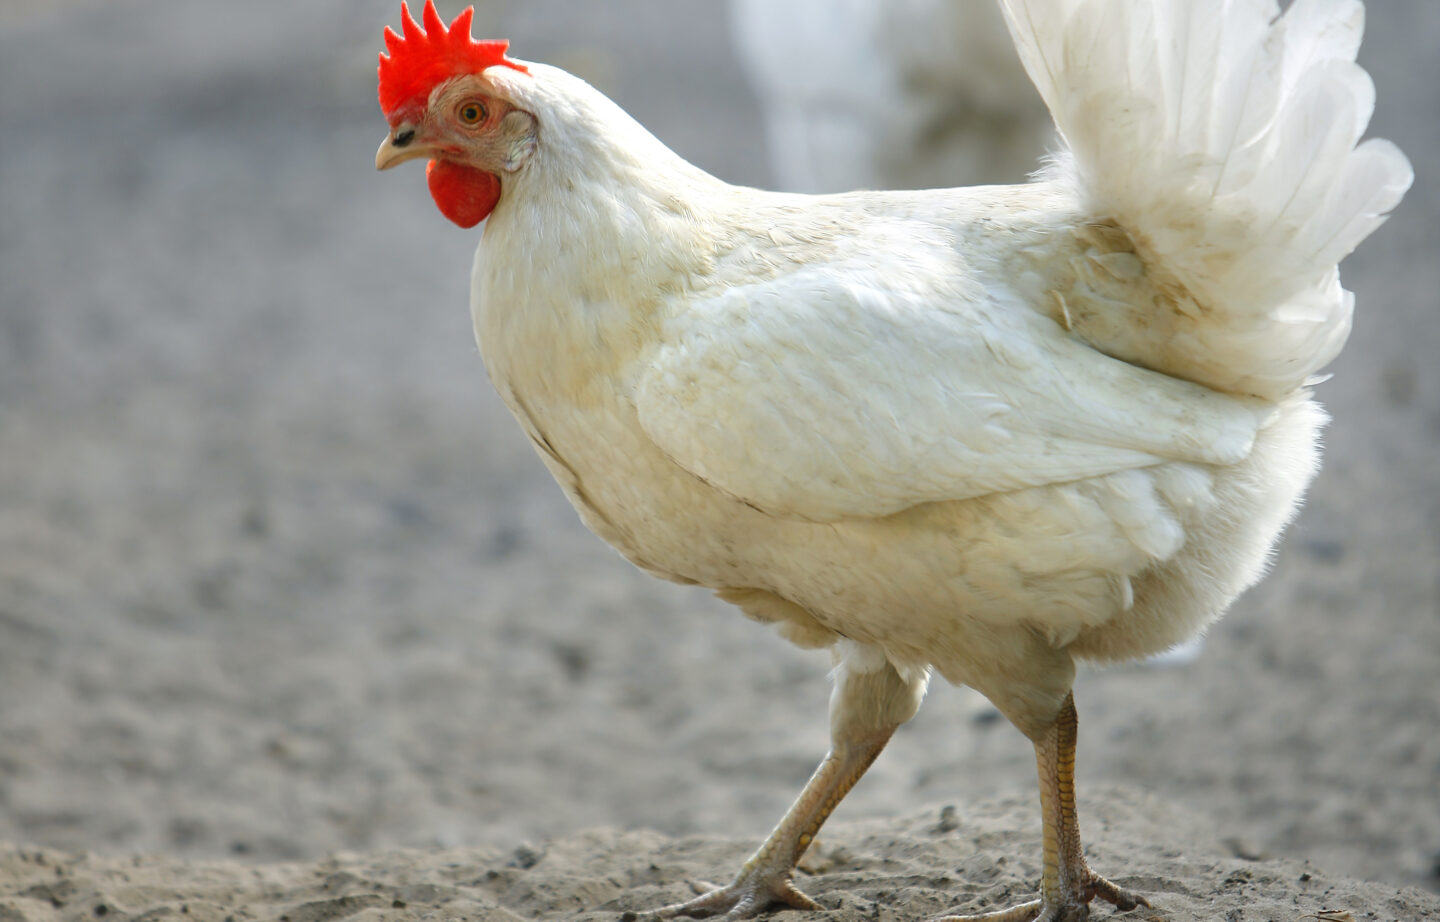chicken: (346, 12, 1359, 922)
